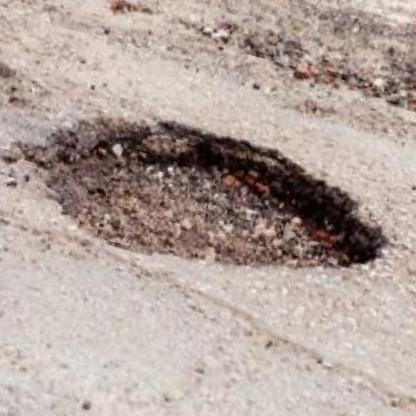pothole: (17, 89, 405, 317), (0, 30, 37, 113)
